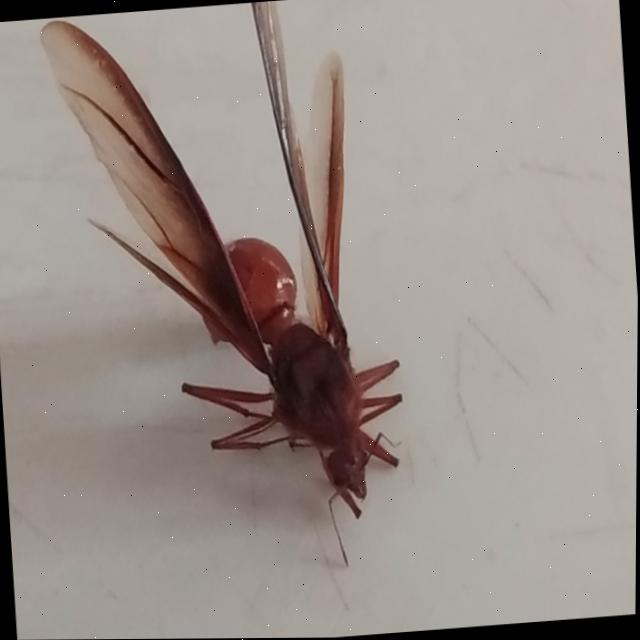Dead-Male-Alate: (35, 0, 417, 589)
